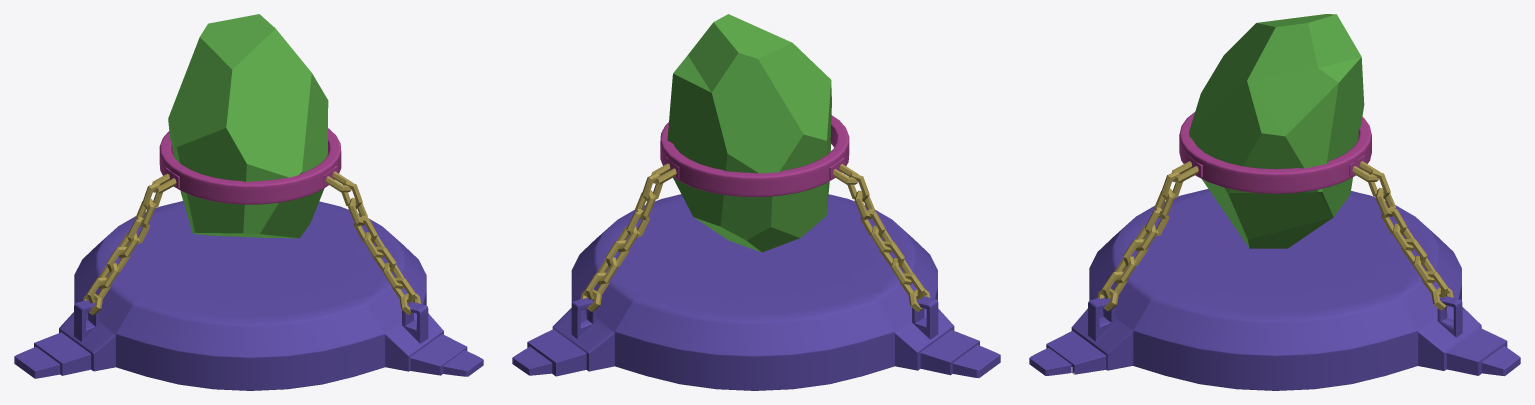
3 renders of one model, left to right at view 1: azimuth 30°, elevation 25°; view 2: azimuth 150°, elevation 25°; view 3: azimuth 270°, elevation 25°, orthographic. The views are drawn at different scales.
Parts seen in each view (by area): view 1: Platform, Crystal, Holder; view 2: Platform, Crystal, Holder; view 3: Platform, Crystal, Holder.
Boxes of the visible parts, bbox=[...] form: Platform: bbox=[14, 201, 483, 390]; Crystal: bbox=[168, 14, 328, 238]; Holder: bbox=[159, 128, 341, 204]; Platform: bbox=[512, 194, 1000, 390]; Crystal: bbox=[667, 14, 831, 252]; Holder: bbox=[660, 115, 849, 196]; Platform: bbox=[1029, 189, 1520, 390]; Crystal: bbox=[1189, 14, 1364, 248]; Holder: bbox=[1179, 112, 1371, 193].
Size of the model in its own units: 242 by 174 by 256.
